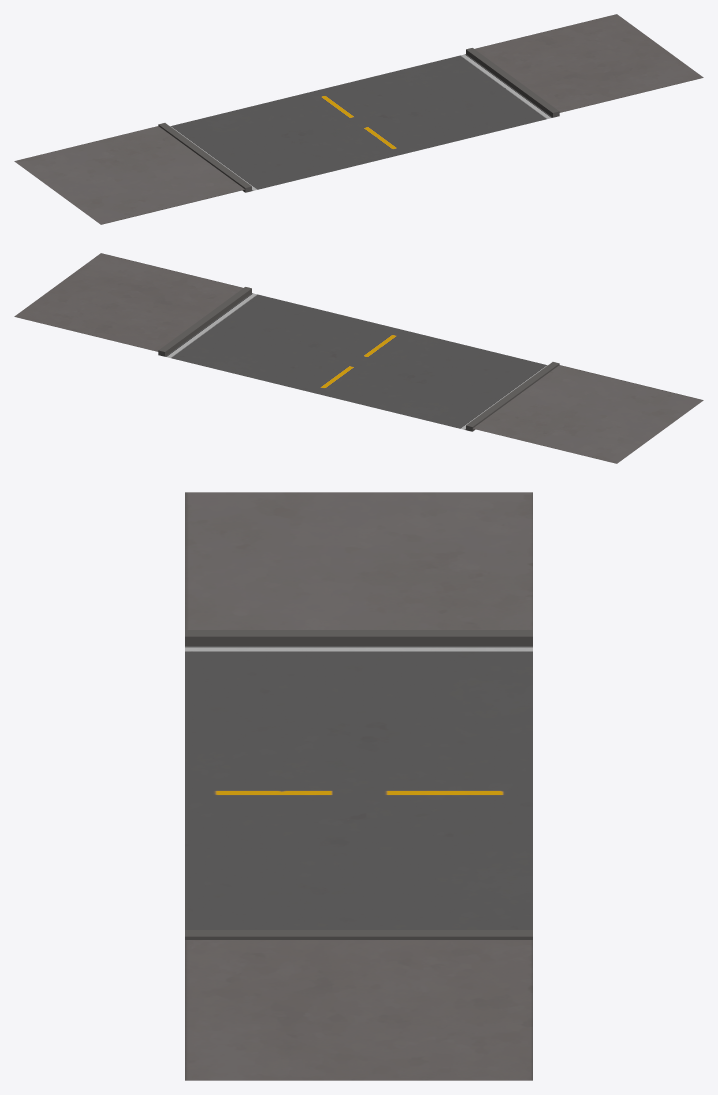
Rendered from SM_Floor_Road_01_S.fbx.
The picture shows the model from 3 angles, top to bottom: view 1: azimuth 30°, elevation 25°; view 2: azimuth 150°, elevation 25°; view 3: azimuth 270°, elevation 25°; orthographic projection. The views are drawn at different scales.
Parts seen in each view (by area): view 1: SM_Floor_Road_01_S; view 2: SM_Floor_Road_01_S; view 3: SM_Floor_Road_01_S.
Part boxes in pixels (x1,y1,x2,y2): SM_Floor_Road_01_S: [14, 14, 703, 224]; SM_Floor_Road_01_S: [14, 253, 703, 463]; SM_Floor_Road_01_S: [185, 492, 532, 1080].
Size of the model in its own units: 10 by 0.075 by 2.5.
